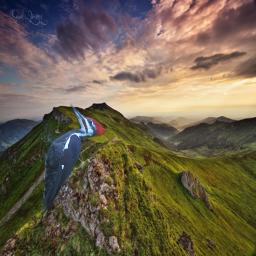Woodpecker: (40, 102, 106, 217)
